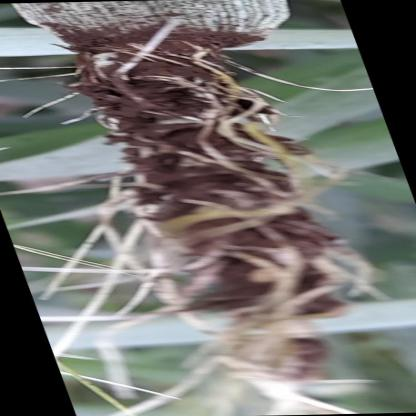Wheat Smut: (178, 275, 336, 313), (139, 185, 287, 225), (197, 228, 329, 271), (136, 142, 271, 182), (87, 62, 230, 97), (102, 104, 246, 138), (209, 342, 328, 378), (87, 25, 214, 55), (227, 32, 262, 45)
